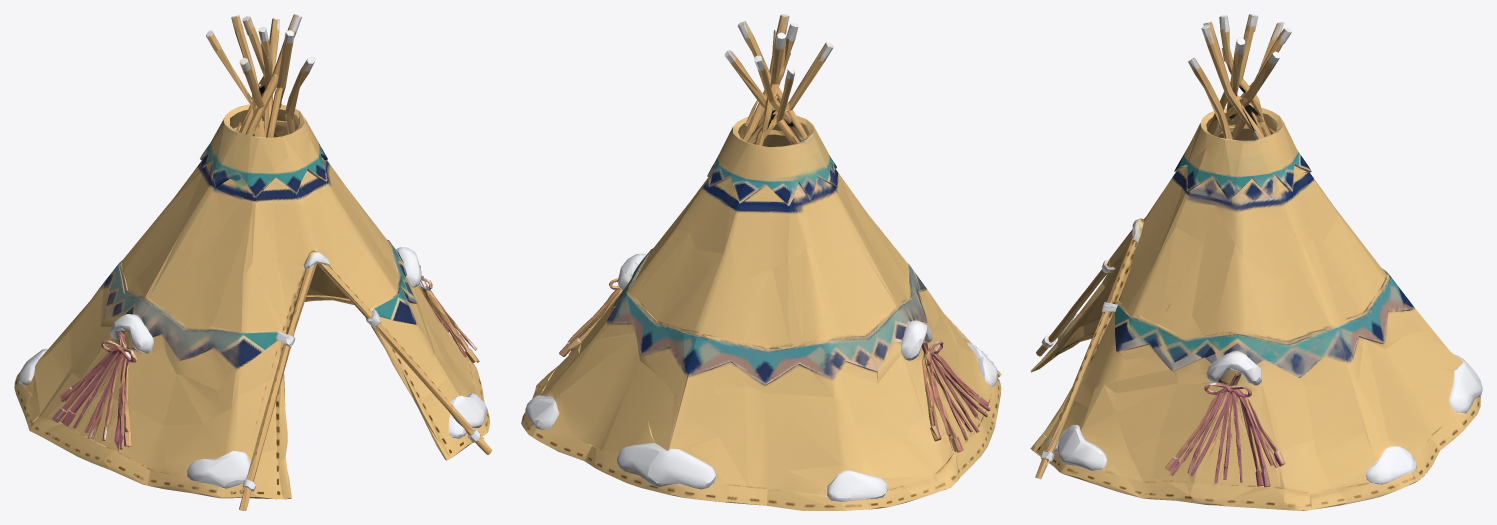
File: teepee_tent.glb
3 views of the same model, side by side, from view 1: azimuth 30°, elevation 25°; view 2: azimuth 150°, elevation 25°; view 3: azimuth 270°, elevation 25° (orthographic).
Bounding box in the file's own units: 1.9 × 1.73 × 1.78.
Materials: 1 (1 with a texture image).
